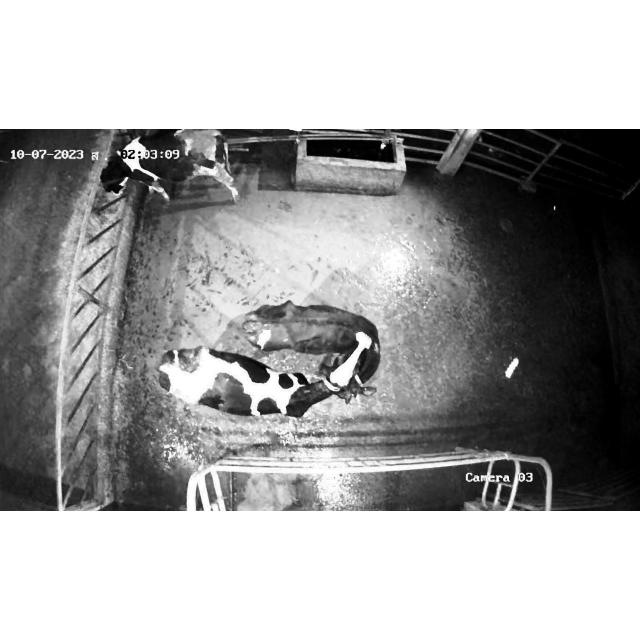propping: (320, 305, 386, 413)
